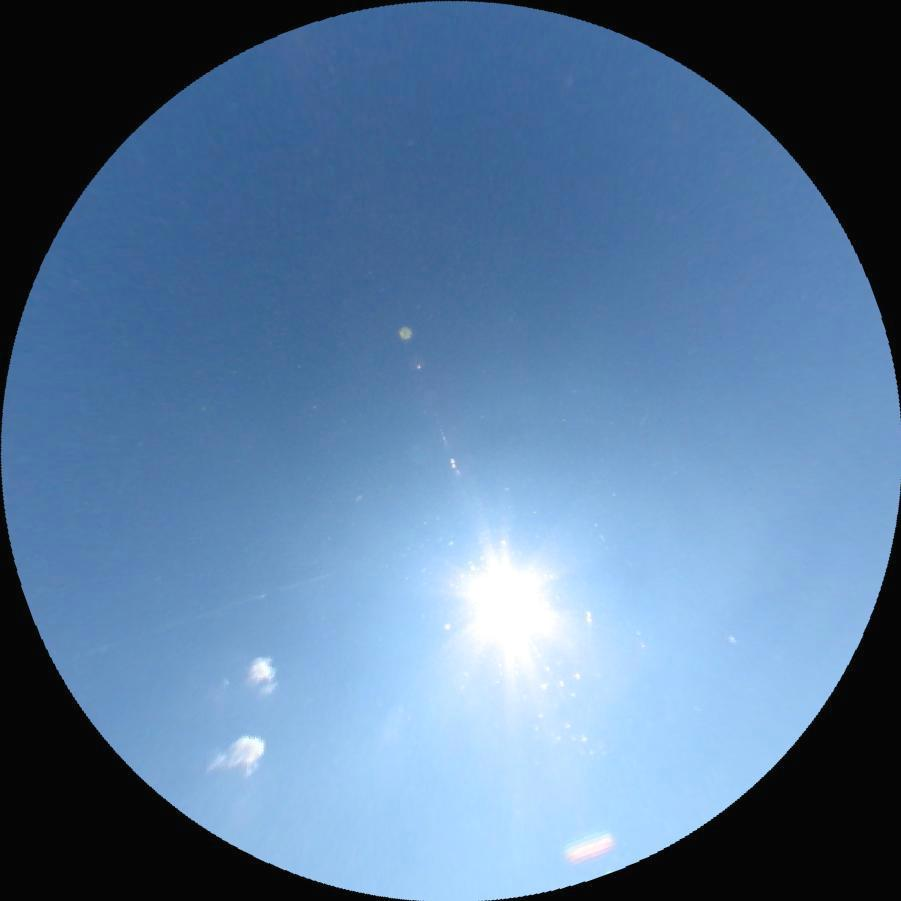sun: (435, 534, 579, 676)
